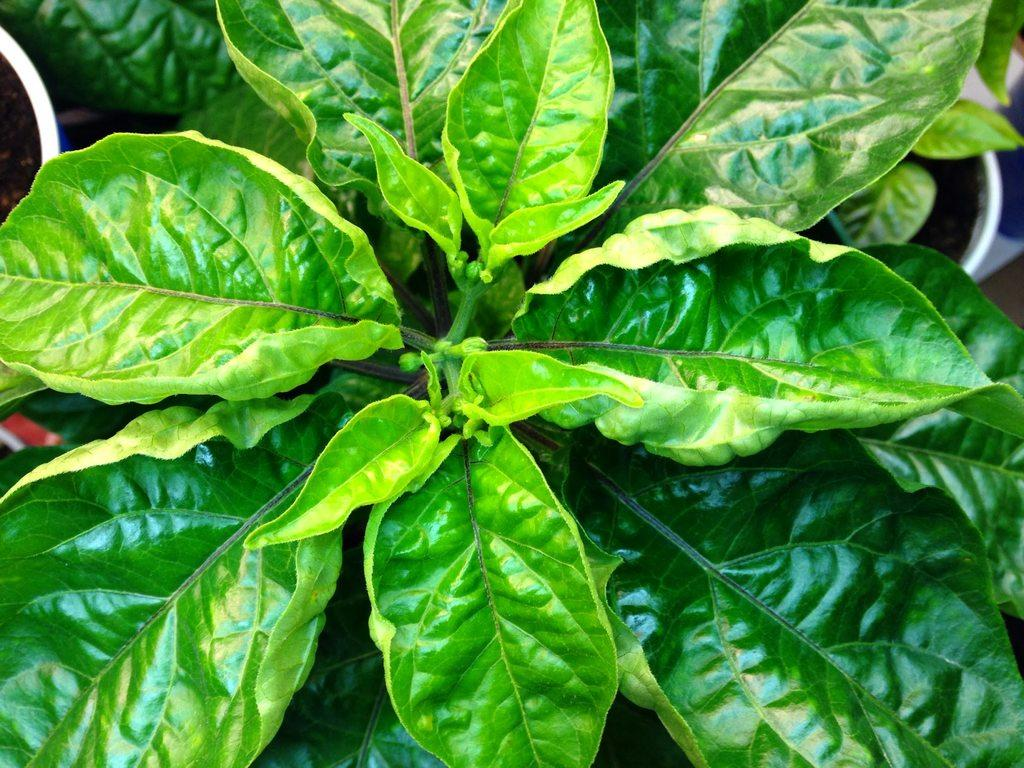Bell_pepper leaf spot: (524, 225, 991, 455), (2, 127, 413, 380), (346, 421, 624, 768), (450, 1, 619, 254)
